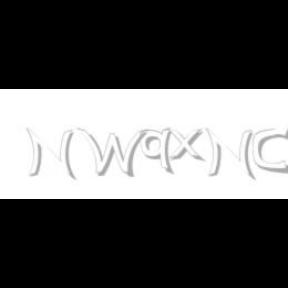C: (252, 128, 288, 174)
N: (25, 128, 74, 180), (204, 128, 253, 180)
W: (76, 128, 148, 178)
q: (139, 128, 175, 176)
x: (166, 128, 208, 162)
